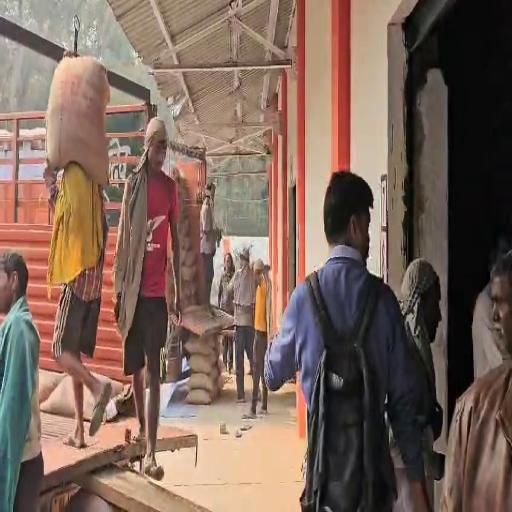bag: (44, 55, 112, 189)
